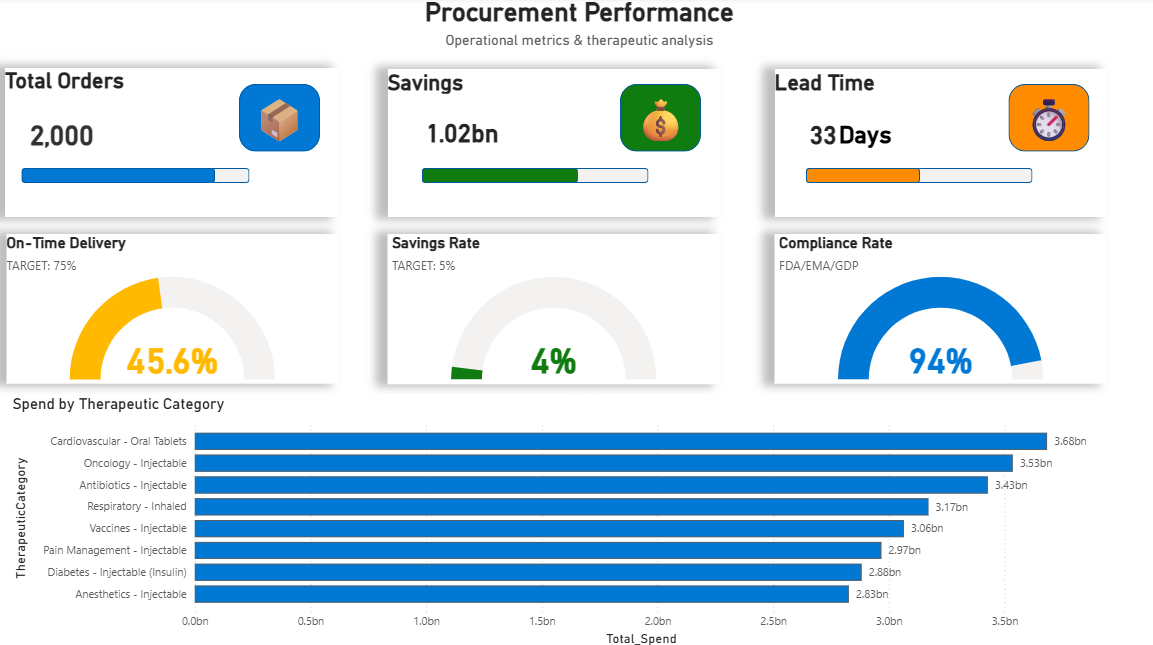

What the dashboard file says about the page in this screenshot:
{"tool":"powerbi","page":{"name":"Performance","canvas":[1280,720],"ordinal":2},"visuals":[{"type":"shape","title":"Savings","box":[432.9,78.7,366.6,163.6],"z":0},{"type":"shape","title":"Total Orders","box":[9.9,77.9,367.7,165.6],"z":1000},{"type":"shape","title":"Procurement Performance","box":[10.4,0,1268.7,78.2],"z":2000},{"type":"shape","box":[268.3,96.1,89.4,74.5],"z":3000},{"type":"cardVisual","fields":{"Data":["monthly_procurement_summary.Total_Transactions"]},"box":[13.3,119.3,140.8,64.6],"z":4000},{"type":"shape","box":[29.8,188.8,250.1,16.6],"z":5000},{"type":"shape","box":[28.2,188.8,213.7,16.6],"z":6000},{"type":"shape","title":"Lead Time","box":[859.5,78.7,366.6,163.6],"z":7000},{"type":"shape","box":[689.1,96.1,89.4,74.5],"z":8000},{"type":"shape","box":[470.4,188.8,250.1,16.6],"z":9000},{"type":"cardVisual","fields":{"Data":["monthly_procurement_summary.Total_Savings"]},"box":[445.6,116,164,67.9],"z":10000},{"type":"shape","box":[1118.1,96.1,89.4,74.5],"z":11000},{"type":"cardVisual","fields":{"Data":["monthly_procurement_summary.Avg_Lead_Time"]},"box":[869.7,119.3,104.4,64.6],"z":12000},{"type":"shape","box":[894.5,188.8,250.1,16.6],"z":13000},{"type":"shape","box":[470.4,188.8,172.3,16.6],"z":14000},{"type":"shape","box":[894.5,188.8,125.9,16.6],"z":15000},{"type":"gauge","title":"On-Time Delivery","fields":{"Y":["monthly_procurement_summary.OnTime_Delivery_Rate"]},"box":[11.6,261.7,366.1,165.6],"z":16000},{"type":"gauge","title":"Compliance Rate","fields":{"Y":["monthly_procurement_summary.Compliance_Rate"]},"box":[859.7,261.7,366.1,165.6],"z":17000},{"type":"gauge","title":"Savings Rate","fields":{"Y":["monthly_procurement_summary.Savings_Rate"]},"box":[432.9,261,366.6,165.7],"z":18000},{"type":"clusteredBarChart","title":"Spend by Therapeutic Category","fields":{"Category":["pharmaceutical_supply_chain_data.TherapeuticCategory"],"Y":["monthly_procurement_summary.Total_Spend"]},"box":[13.3,439,1212.5,281.6],"z":19000},{"type":"shape","box":[929,119.3,61.3,64.6],"z":20000}]}

Visuals, with their boxes in screenshot pixels (x1, y1, x2, y2), scaled from the page's 1280x720 canvas onto the 1153x645 screenshot:
"Savings" shape: box(390, 71, 720, 217)
"Total Orders" shape: box(9, 70, 340, 218)
"Procurement Performance" shape: box(9, 0, 1152, 70)
shape: box(242, 86, 322, 153)
cardVisual - monthly_procurement_summary.Total_Transactions: box(12, 107, 139, 165)
shape: box(27, 169, 252, 184)
shape: box(25, 169, 218, 184)
"Lead Time" shape: box(774, 71, 1104, 217)
shape: box(621, 86, 701, 153)
shape: box(424, 169, 649, 184)
cardVisual - monthly_procurement_summary.Total_Savings: box(401, 104, 549, 165)
shape: box(1007, 86, 1088, 153)
cardVisual - monthly_procurement_summary.Avg_Lead_Time: box(783, 107, 877, 165)
shape: box(806, 169, 1031, 184)
shape: box(424, 169, 579, 184)
shape: box(806, 169, 919, 184)
"On-Time Delivery" gauge: box(10, 234, 340, 383)
"Compliance Rate" gauge: box(774, 234, 1104, 383)
"Savings Rate" gauge: box(390, 234, 720, 382)
"Spend by Therapeutic Category" clusteredBarChart: box(12, 393, 1104, 644)
shape: box(837, 107, 892, 165)
